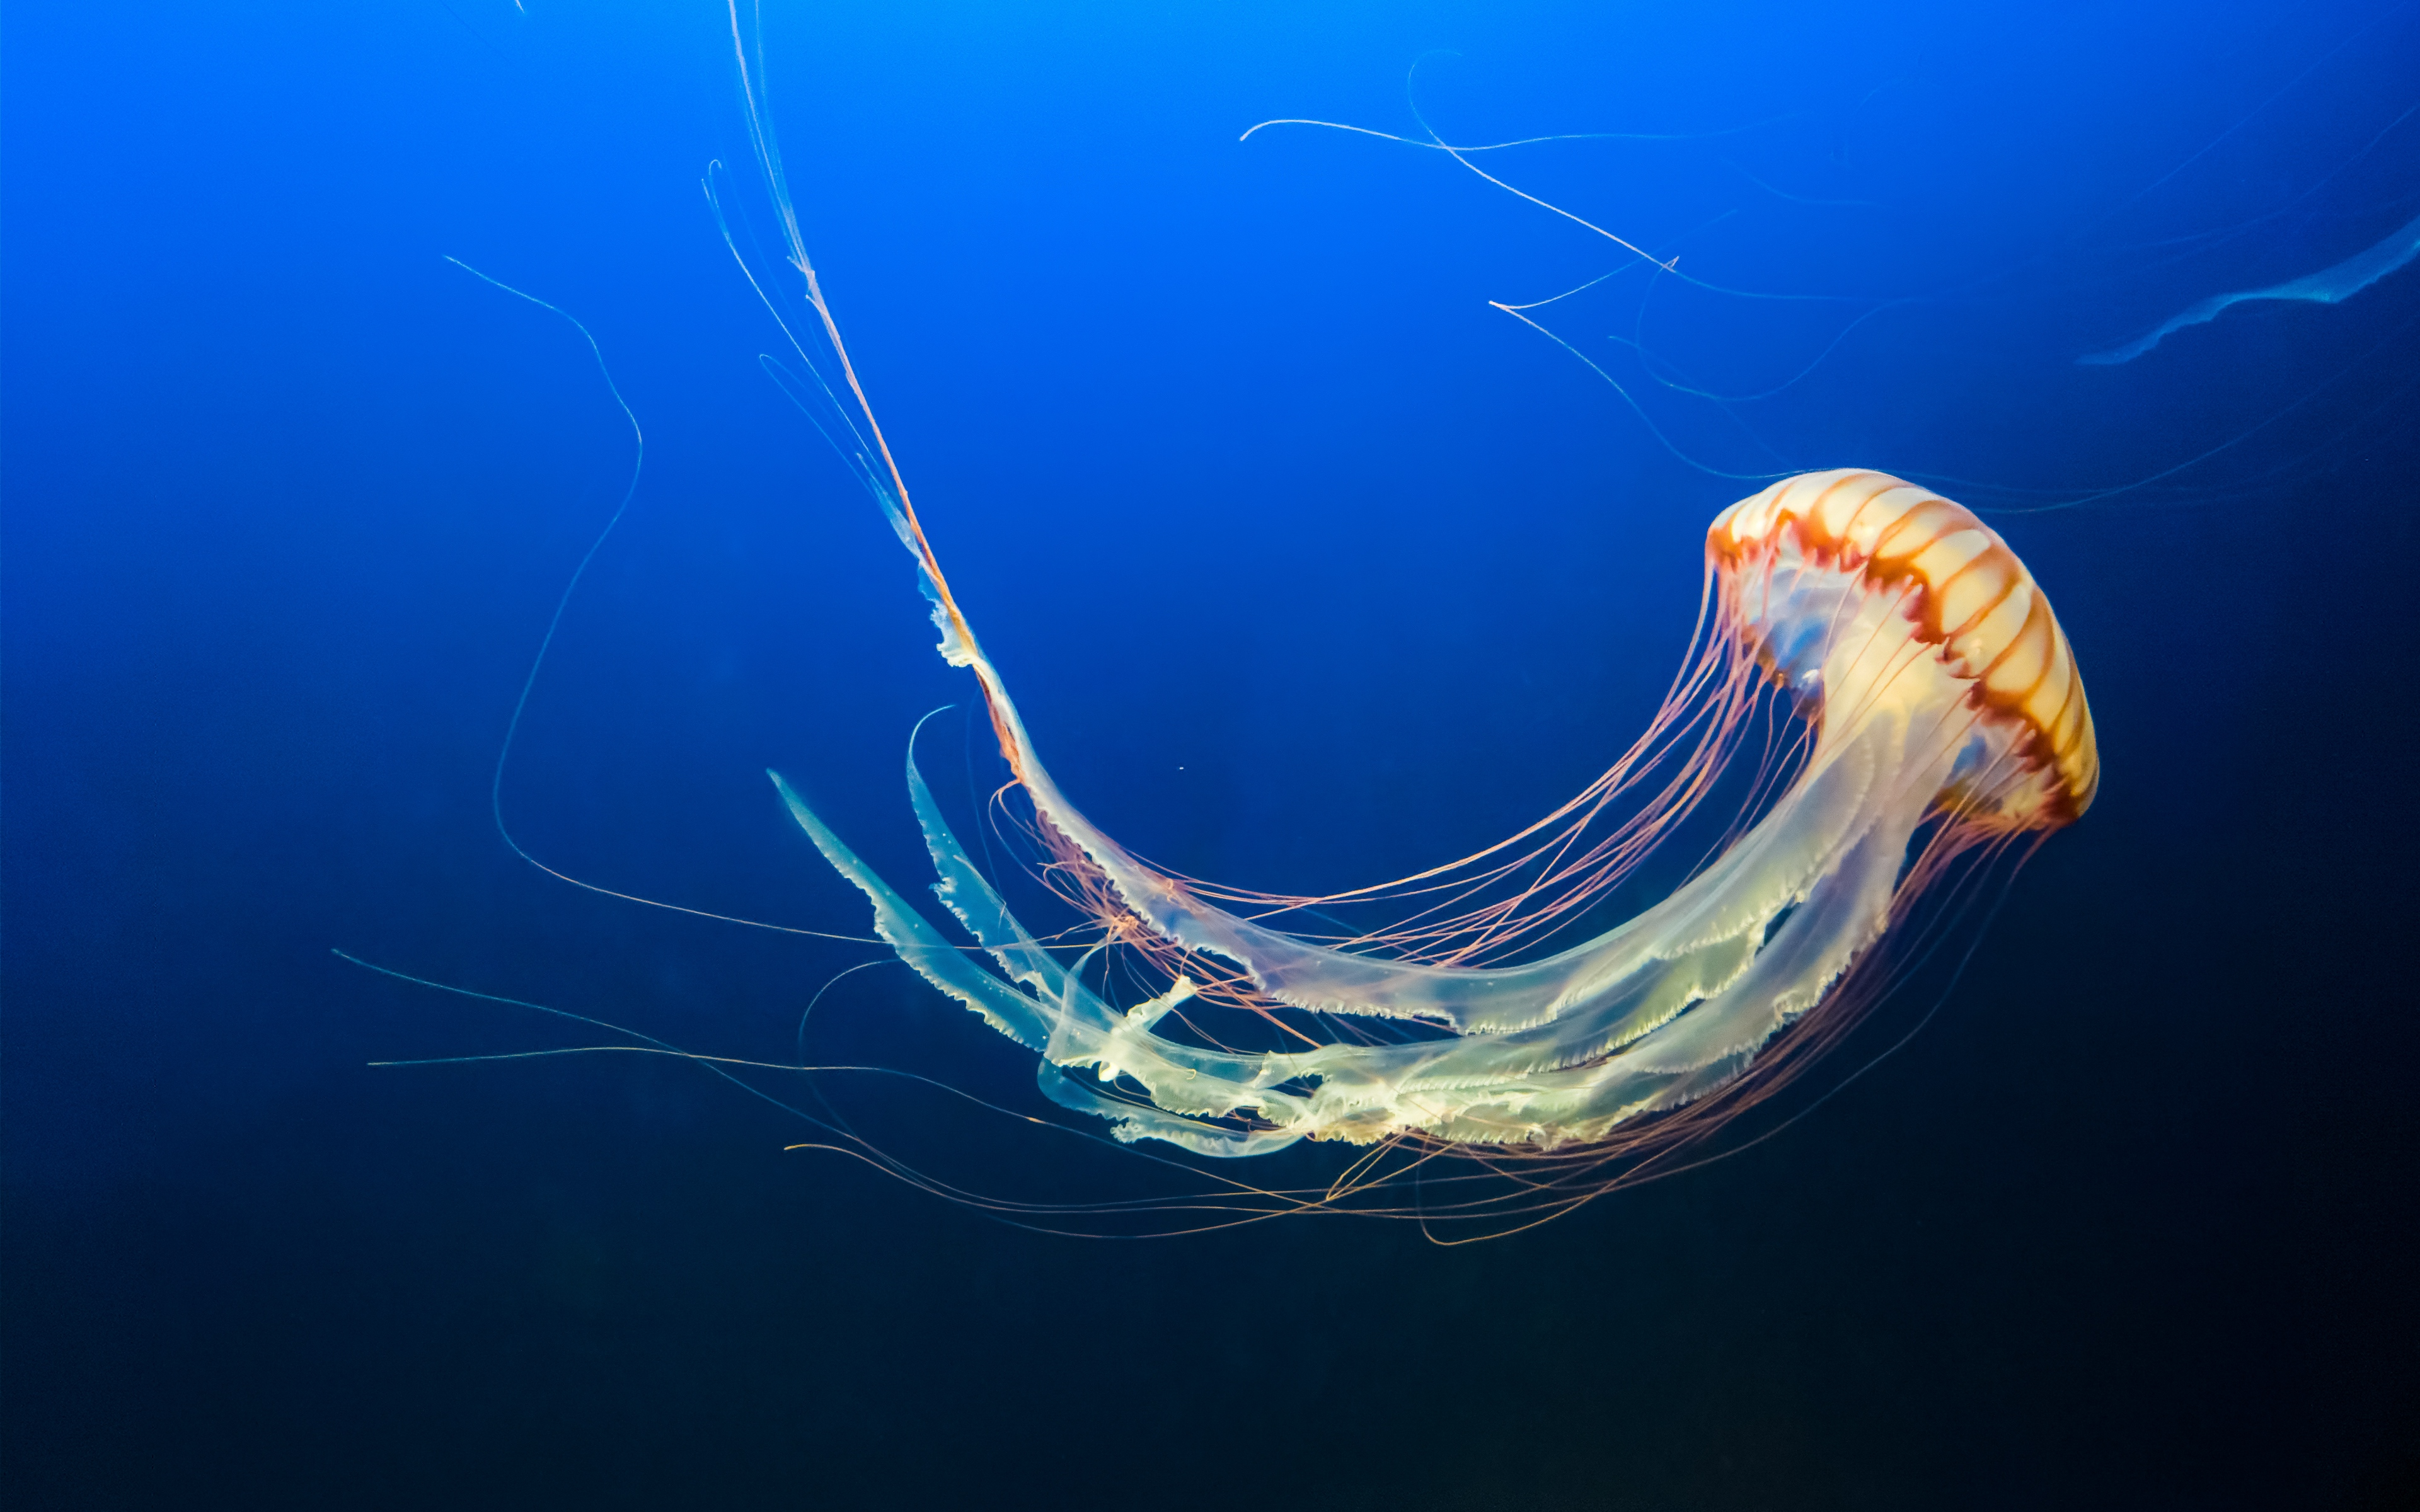jellyfish: (662, 432, 2171, 1252)
